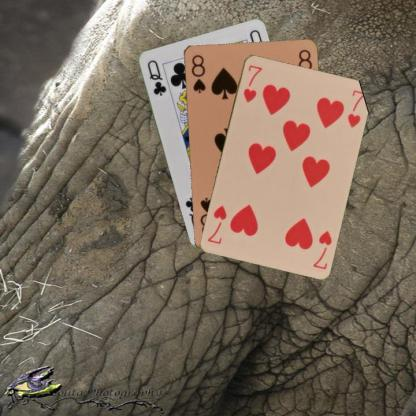7h: (240, 62, 263, 104), (310, 228, 332, 270)
8s: (188, 52, 207, 94)
Qc: (144, 57, 168, 97)
